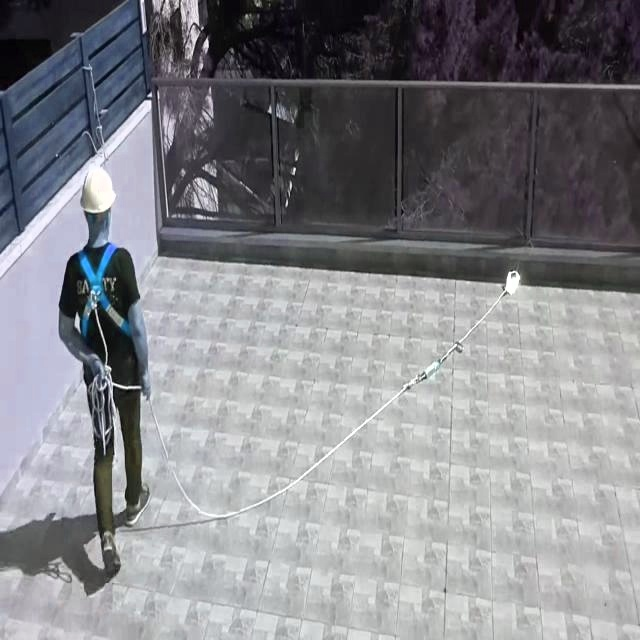safety belt: (67, 253, 143, 378)
